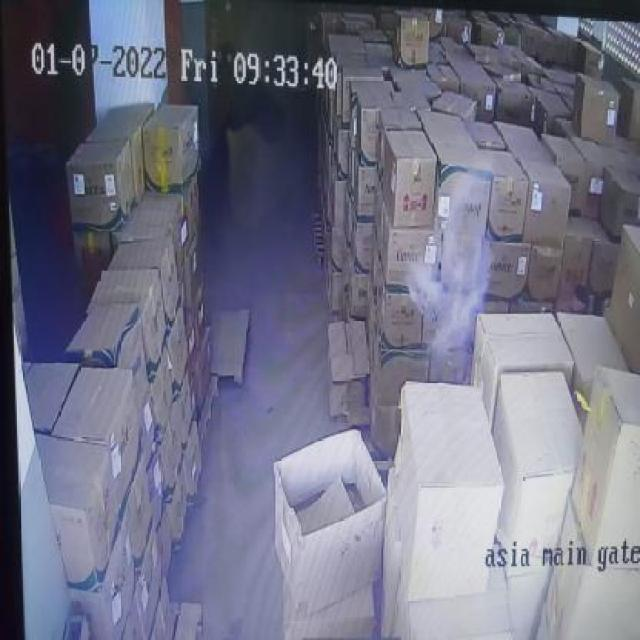fire: (406, 200, 496, 358)
